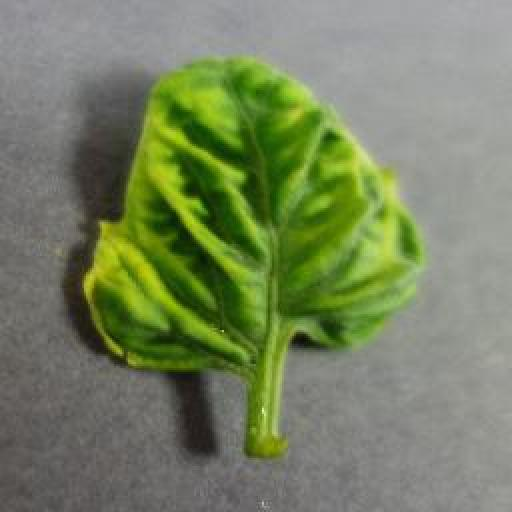disease_tomato: (80, 57, 423, 376)
